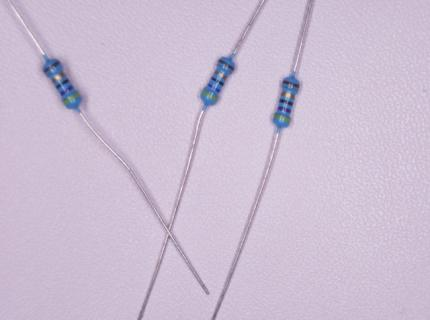Black band: (55, 78, 71, 89), (210, 76, 225, 86), (280, 98, 293, 106)
Brown band: (43, 60, 61, 73), (217, 59, 235, 71), (282, 80, 300, 88)
Gold band: (51, 71, 66, 84), (214, 69, 228, 81), (281, 92, 295, 99)
Violet band: (59, 85, 74, 96), (206, 83, 221, 93), (277, 106, 292, 114)
Yellow band: (63, 92, 81, 105), (201, 90, 218, 102), (274, 114, 291, 123)
